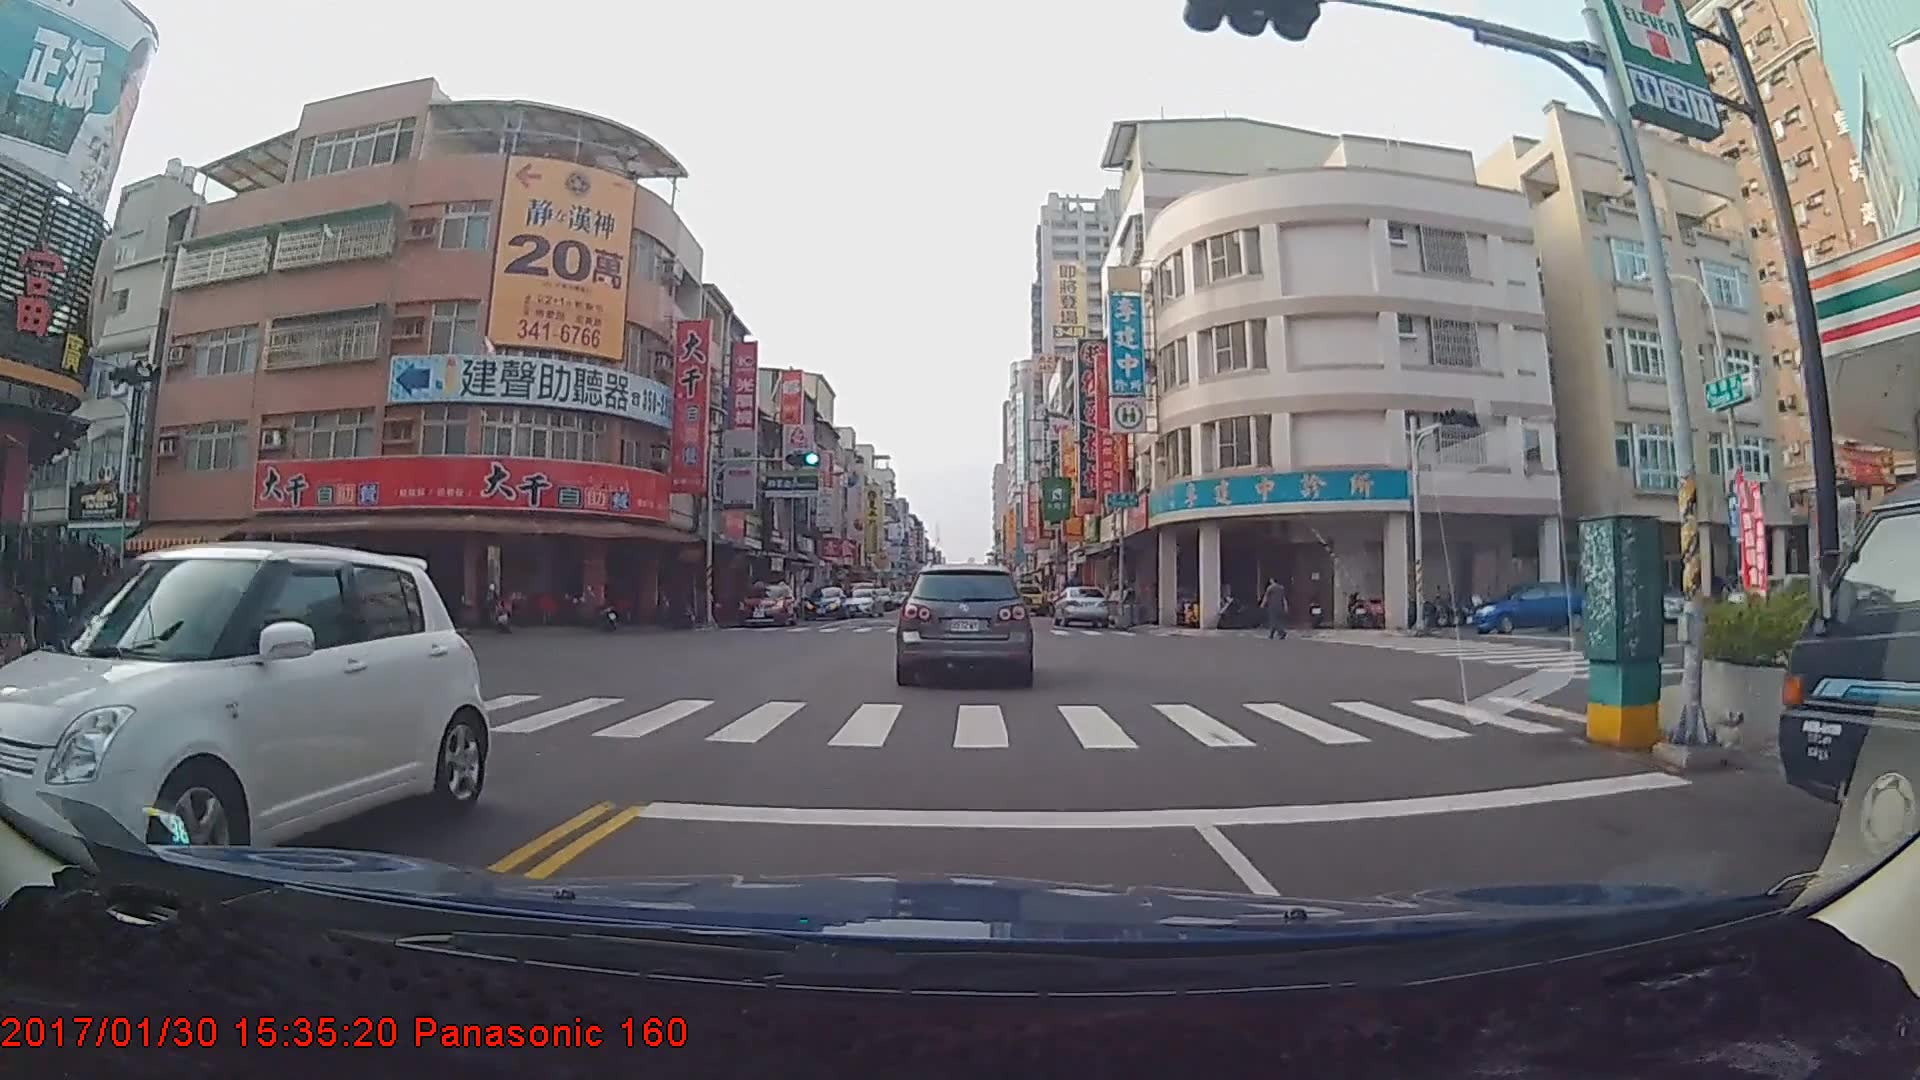pedestrian: (1261, 576, 1290, 643)
vehicle: (0, 542, 487, 904), (1774, 478, 1920, 920), (895, 562, 1033, 687), (1465, 580, 1596, 633), (739, 577, 796, 625), (1050, 580, 1110, 624), (802, 581, 848, 615), (838, 584, 882, 613), (1009, 581, 1046, 614)
